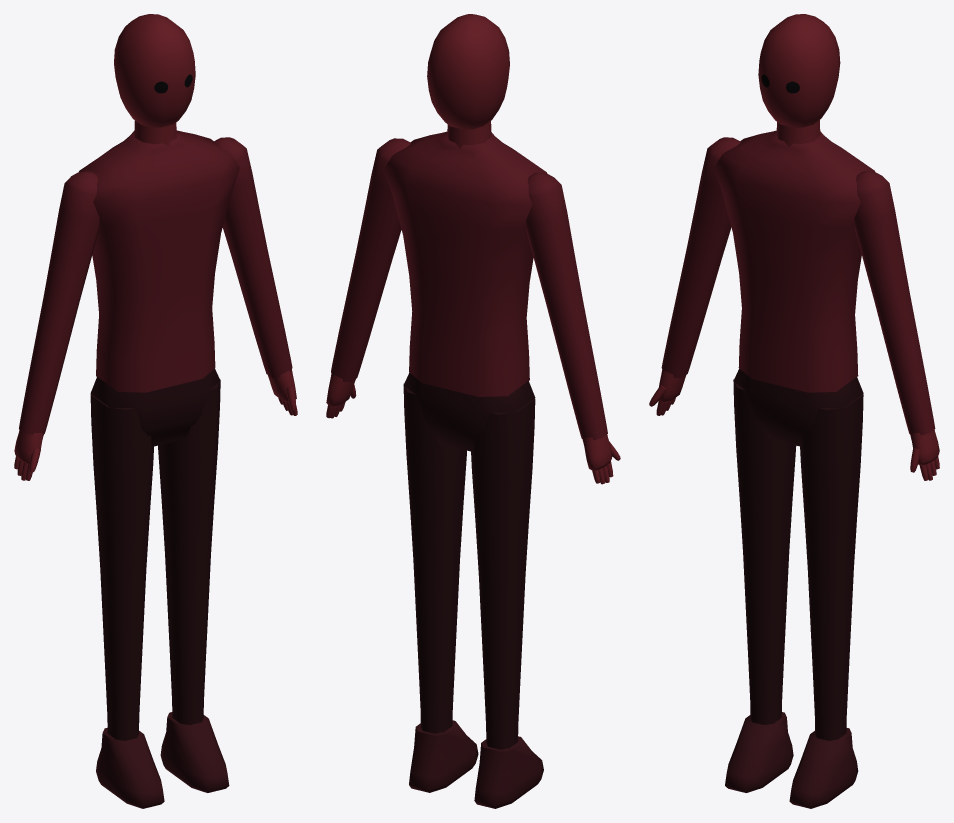
Rendered from puppet_v01.glb.
The picture shows the model from 3 angles, left to right: view 1: azimuth 30°, elevation 25°; view 2: azimuth 150°, elevation 25°; view 3: azimuth 330°, elevation 25°; orthographic projection.
Parts seen in each view (by area): view 1: Puppet_Body, Puppet_Leg_L, Puppet_Leg_R, Puppet_Arm_L, Puppet_Arm_R; view 2: Puppet_Body, Puppet_Leg_L, Puppet_Leg_R, Puppet_Arm_L, Puppet_Arm_R; view 3: Puppet_Body, Puppet_Leg_R, Puppet_Leg_L, Puppet_Arm_R, Puppet_Arm_L.
Part boxes in pixels (left/top/right/bottom): Puppet_Body: left=78, top=14, right=239, bottom=446; Puppet_Leg_L: left=90, top=394, right=164, bottom=808; Puppet_Leg_R: left=158, top=379, right=229, bottom=792; Puppet_Arm_L: left=14, top=171, right=99, bottom=480; Puppet_Arm_R: left=213, top=137, right=297, bottom=415; Puppet_Body: left=384, top=14, right=547, bottom=451; Puppet_Leg_L: left=471, top=398, right=543, bottom=808; Puppet_Leg_R: left=403, top=383, right=478, bottom=792; Puppet_Arm_L: left=526, top=172, right=620, bottom=484; Puppet_Arm_R: left=326, top=138, right=410, bottom=418; Puppet_Body: left=714, top=14, right=875, bottom=446; Puppet_Leg_R: left=789, top=394, right=863, bottom=808; Puppet_Leg_L: left=725, top=379, right=796, bottom=792; Puppet_Arm_R: left=854, top=171, right=939, bottom=480; Puppet_Arm_L: left=649, top=137, right=740, bottom=415.
Bounding box in the file's own units: 0.6603 × 1.75 × 0.2231.
